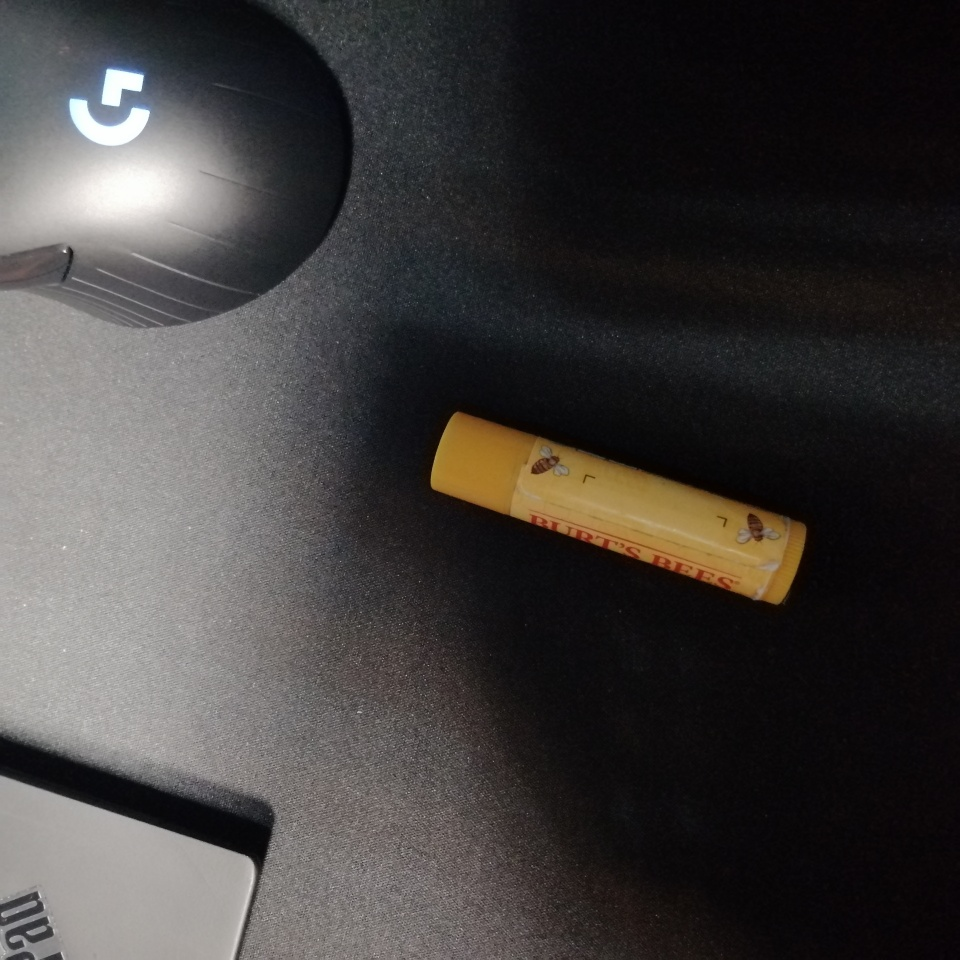chapstick: (428, 409, 808, 605)
